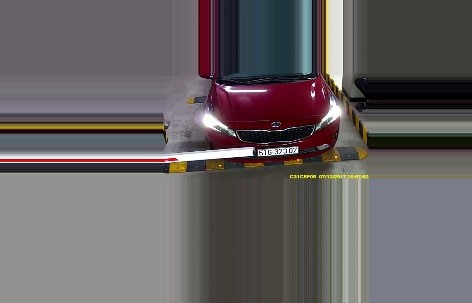plate: (256, 145, 299, 157)
